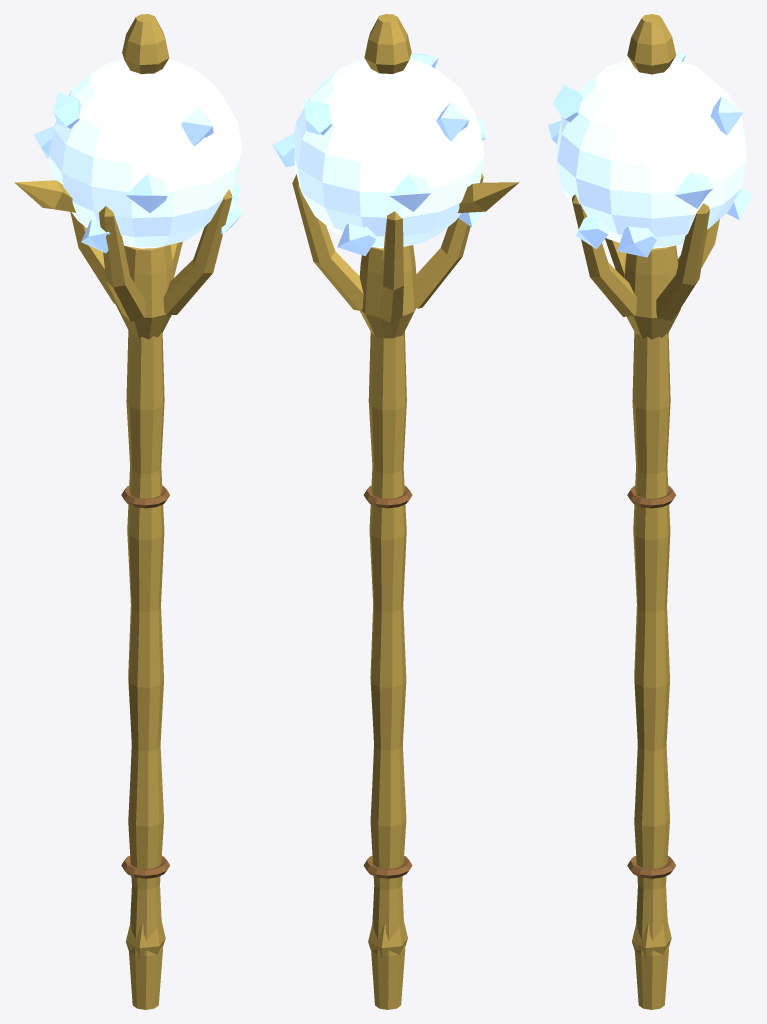
The model's file is staff_moonstone.glb.
3 views of the same model, side by side, from view 1: azimuth 30°, elevation 25°; view 2: azimuth 150°, elevation 25°; view 3: azimuth 270°, elevation 25° (orthographic).
Parts seen in each view (by area): view 1: Ms_Orb, Ms_Shaft, Ms_Neck, Ms_Claw3, Ms_Claw2, Ms_Cap, Ms_Horn, Ms_Orb_F7, Ms_Claw1, Ms_Tip, Ms_Orb_F5, Ms_Orb_F8 (+3 smaller); view 2: Ms_Orb, Ms_Shaft, Ms_Neck, Ms_Claw0, Ms_Claw1, Ms_Cap, Ms_Claw2, Ms_Horn, Ms_Orb_F4, Ms_Orb_F3, Ms_Tip, Ms_Orb_F2 (+2 smaller); view 3: Ms_Orb, Ms_Shaft, Ms_Neck, Ms_Claw0, Ms_Cap, Ms_Claw3, Ms_Orb_F0, Ms_Orb_F1, Ms_Tip, Ms_Orb_F2, Ms_Orb_F8, Ms_Orb_F9 (+2 smaller).
Part boxes in pixels (x1,y1,x2,y2): Ms_Orb: [49, 59, 242, 248]; Ms_Shaft: [126, 330, 164, 1009]; Ms_Neck: [115, 244, 173, 339]; Ms_Claw3: [163, 189, 232, 314]; Ms_Claw2: [99, 206, 145, 321]; Ms_Cap: [122, 14, 169, 74]; Ms_Horn: [14, 180, 76, 212]; Ms_Orb_F7: [126, 174, 167, 212]; Ms_Claw1: [70, 212, 115, 303]; Ms_Tip: [126, 921, 165, 959]; Ms_Orb_F5: [53, 92, 80, 128]; Ms_Orb_F8: [181, 107, 213, 146]; Ms_Orb: [294, 59, 484, 248]; Ms_Shaft: [368, 331, 406, 1009]; Ms_Neck: [359, 245, 416, 338]; Ms_Claw0: [292, 174, 363, 310]; Ms_Claw1: [377, 211, 403, 323]; Ms_Cap: [364, 14, 411, 73]; Ms_Claw2: [414, 173, 483, 308]; Ms_Horn: [458, 182, 519, 212]; Ms_Orb_F4: [390, 174, 430, 211]; Ms_Orb_F3: [337, 223, 376, 256]; Ms_Tip: [368, 921, 407, 959]; Ms_Orb_F2: [304, 100, 332, 135]; Ms_Orb: [557, 59, 746, 248]; Ms_Shaft: [632, 332, 670, 1009]; Ms_Neck: [624, 245, 680, 339]; Ms_Claw0: [656, 203, 709, 320]; Ms_Cap: [627, 14, 676, 74]; Ms_Claw3: [572, 194, 636, 316]; Ms_Orb_F0: [617, 226, 656, 257]; Ms_Orb_F1: [675, 172, 713, 208]; Ms_Tip: [632, 921, 671, 959]; Ms_Orb_F2: [710, 96, 743, 135]; Ms_Orb_F8: [553, 85, 582, 122]; Ms_Orb_F9: [576, 216, 608, 249].
Bounding box in the file's own units: 0.4985 × 2.13 × 0.4008.
